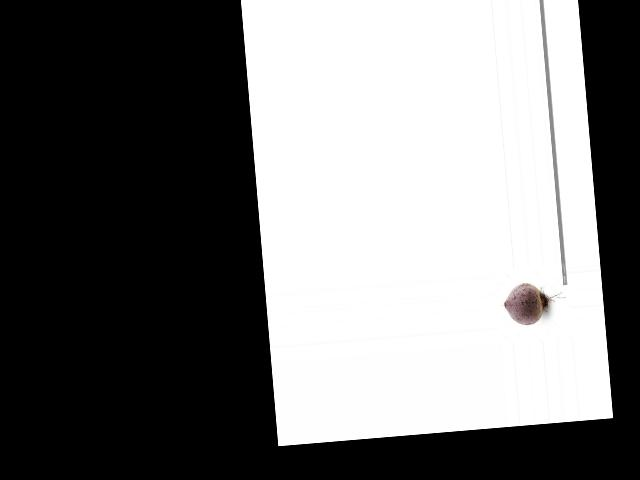beet: (502, 279, 568, 326)
